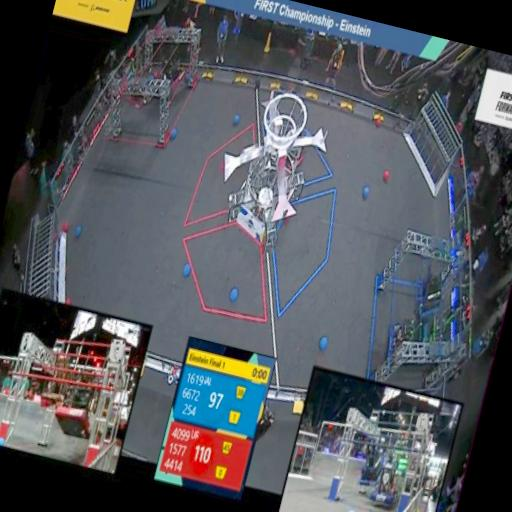robot: (410, 296, 462, 372), (377, 306, 428, 376), (409, 254, 453, 324), (120, 46, 164, 114), (277, 126, 317, 182), (152, 36, 189, 94)
